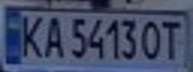1: (103, 16, 124, 60)
3: (118, 16, 142, 61)
4: (84, 16, 106, 60)
5: (66, 15, 87, 60)
A: (39, 12, 66, 60)
K: (15, 11, 48, 60)
O: (139, 17, 166, 61)
T: (157, 17, 187, 60)
